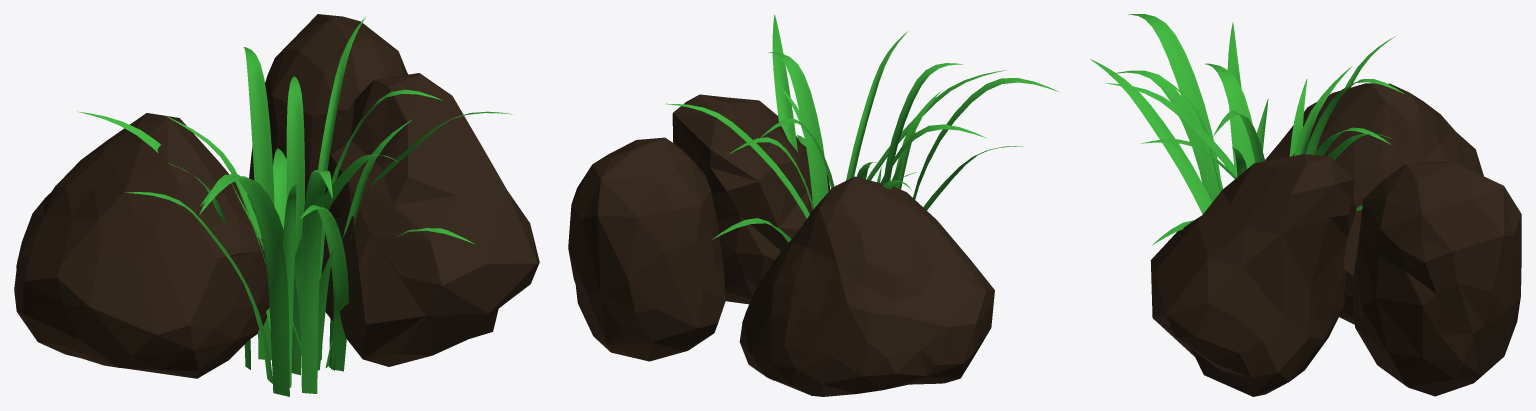
The model's file is grass2.fbx.
3 views of the same model, side by side, from view 1: azimuth 30°, elevation 25°; view 2: azimuth 150°, elevation 25°; view 3: azimuth 270°, elevation 25° (orthographic). The views are drawn at different scales.
Visible parts, largest first — view 1: rock1, Grass_20; view 2: rock1, Grass_20; view 3: rock1, Grass_20.
Boxes of the visible parts, x1,y1,x2,y2 form: rock1: (14, 14, 539, 378); Grass_20: (77, 17, 513, 396); rock1: (568, 94, 994, 396); Grass_20: (666, 14, 1059, 242); rock1: (1150, 83, 1521, 396); Grass_20: (1090, 14, 1403, 245).
Bounding box in the file's own units: 86.1 × 56.13 × 83.93.
